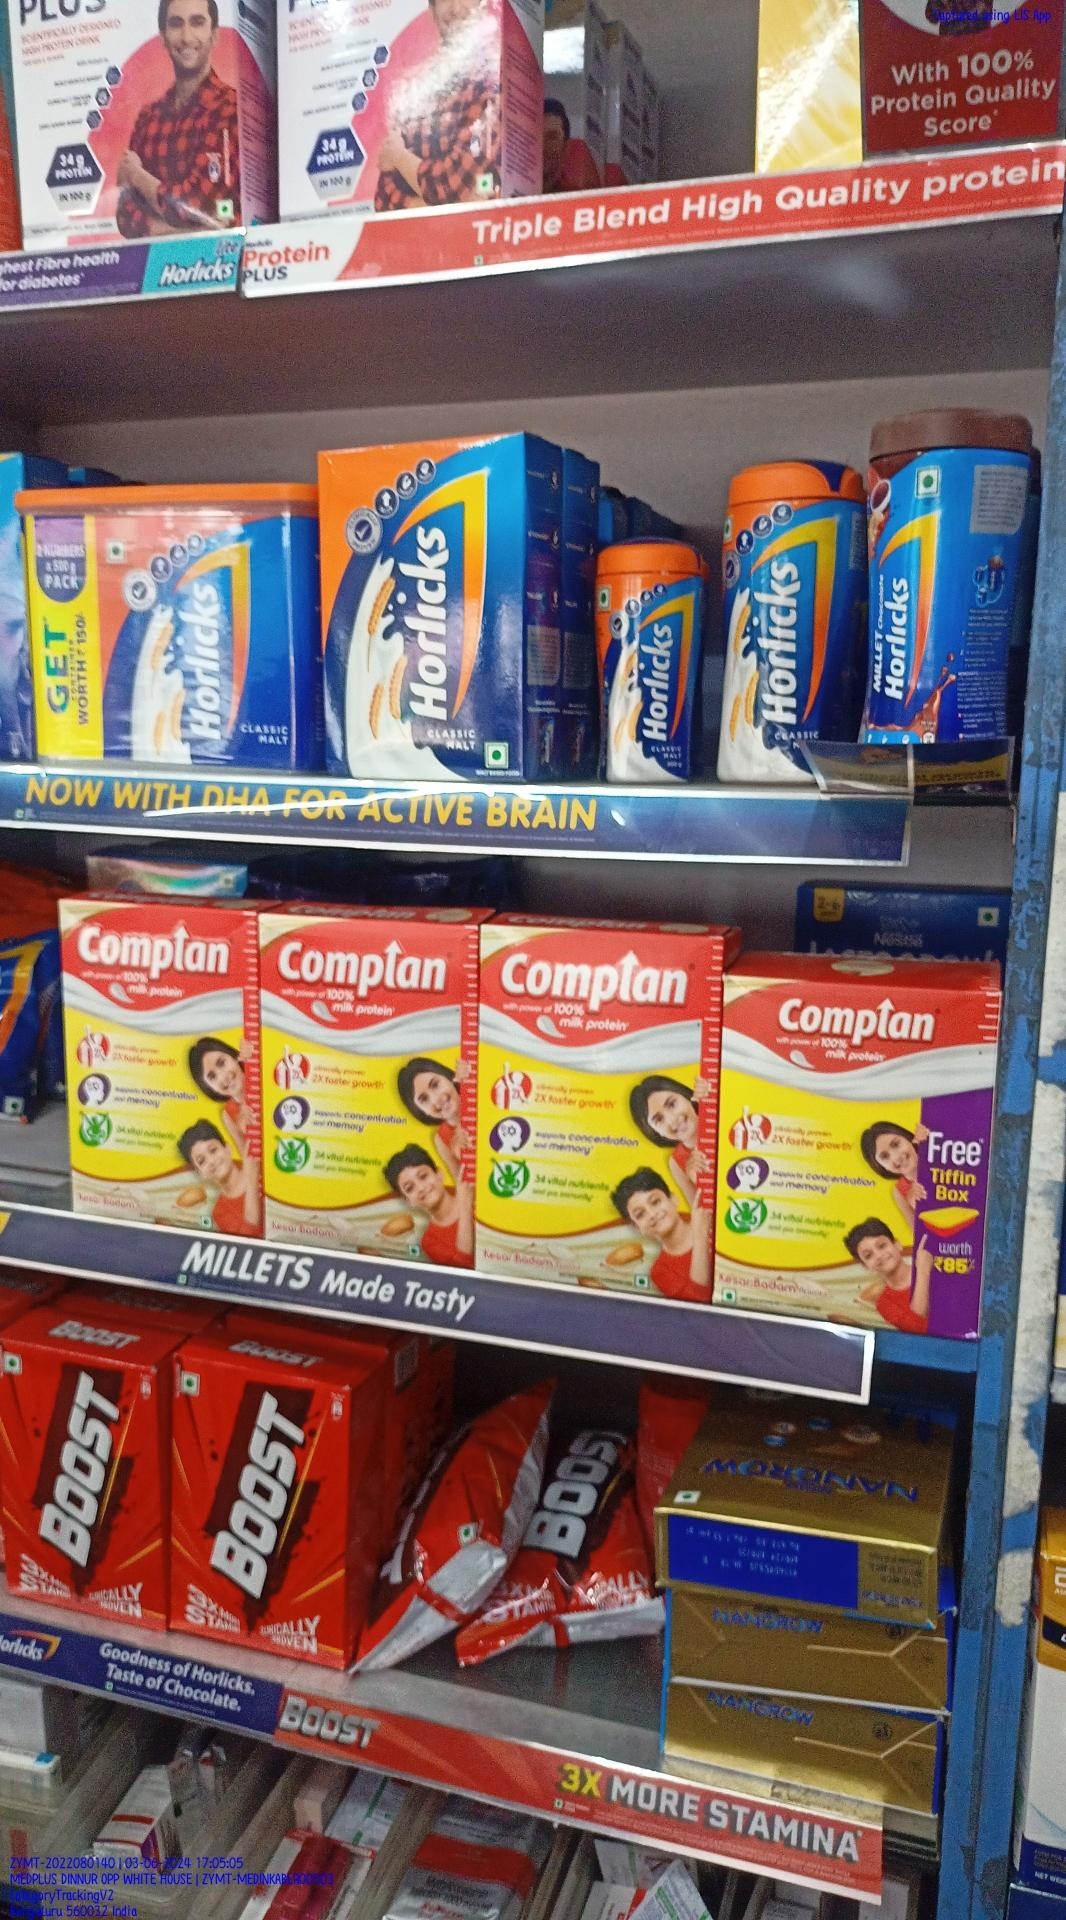COMPLAN_KESAR_BADAM_200_GMS_PACK: (722, 975, 987, 1345)
COMPLAN_KESAR_BADAM_500_GMS_PACK: (477, 934, 710, 1291), (257, 917, 466, 1272), (59, 900, 256, 1238)
HORLICK_CHOCOLATE_500_G_JAR: (864, 409, 1010, 743)
HORLICK_CLASSIC_MALT_200_G_JAR: (600, 547, 692, 783)
HORLICK_CLASSIC_MALT_500_G_JAR: (715, 466, 848, 781)
HORLICK_MALT_1_KG_CONTAINER: (14, 490, 309, 778)
